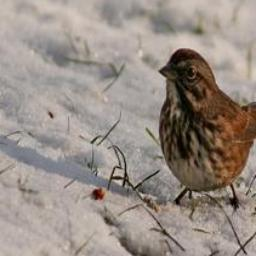Sparrow: (159, 45, 256, 211)
